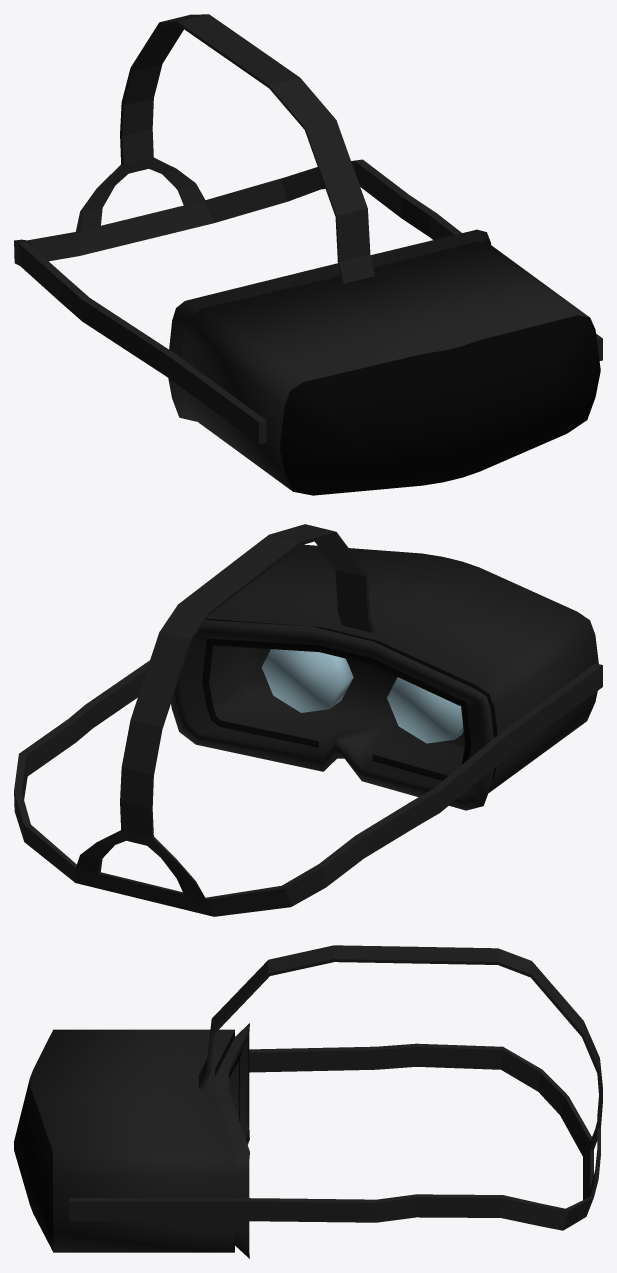
3 views of the same model, one above another, from view 1: azimuth 30°, elevation 25°; view 2: azimuth 150°, elevation 25°; view 3: azimuth 270°, elevation 25° (orthographic). The views are drawn at different scales.
Parts seen in each view (by area): view 1: hatVRGoggles; view 2: hatVRGoggles; view 3: hatVRGoggles.
Part boxes in pixels (left/top/right/bottom): hatVRGoggles: left=14, top=14, right=602, bottom=495; hatVRGoggles: left=14, top=524, right=602, bottom=916; hatVRGoggles: left=14, top=945, right=602, bottom=1258.
Bounding box in the file's own units: 0.4563 × 0.3451 × 0.7269.
Materials: 2 (2 with a texture image).
